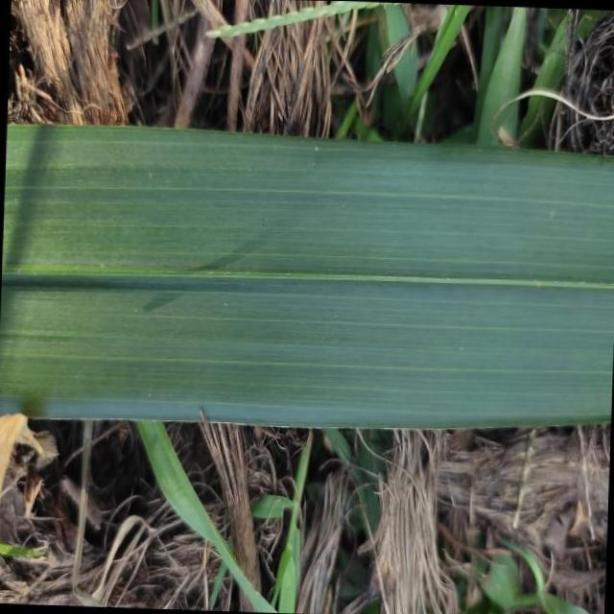Healthy: (5, 118, 614, 426)
